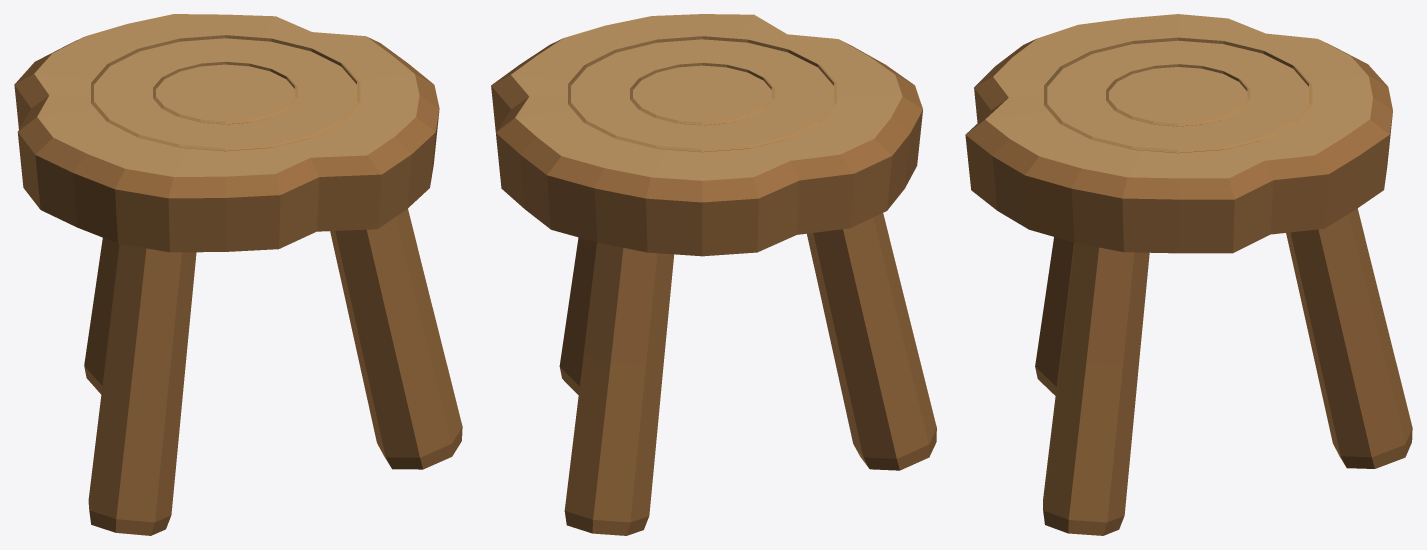
File: stool_crude_slab_01.glb
The picture shows the model from 3 angles, left to right: view 1: azimuth 30°, elevation 25°; view 2: azimuth 150°, elevation 25°; view 3: azimuth 270°, elevation 25°; orthographic projection.
Visible parts, largest first — view 1: stool_crude_slab_01__slab, stool_crude_slab_01, stool_crude_slab_01__growth_ring.001, stool_crude_slab_01__growth_ring; view 2: stool_crude_slab_01__slab, stool_crude_slab_01, stool_crude_slab_01__growth_ring.001, stool_crude_slab_01__growth_ring; view 3: stool_crude_slab_01__slab, stool_crude_slab_01, stool_crude_slab_01__growth_ring.001, stool_crude_slab_01__growth_ring.
Boxes of the visible parts, bbox=[...] form: stool_crude_slab_01__slab: bbox=[14, 14, 439, 252]; stool_crude_slab_01: bbox=[84, 209, 462, 535]; stool_crude_slab_01__growth_ring.001: bbox=[91, 35, 360, 151]; stool_crude_slab_01__growth_ring: bbox=[153, 61, 297, 124]; stool_crude_slab_01__slab: bbox=[491, 14, 922, 256]; stool_crude_slab_01: bbox=[559, 213, 936, 535]; stool_crude_slab_01__growth_ring.001: bbox=[568, 36, 836, 152]; stool_crude_slab_01__growth_ring: bbox=[630, 63, 774, 125]; stool_crude_slab_01__slab: bbox=[965, 14, 1392, 253]; stool_crude_slab_01: bbox=[1035, 208, 1412, 535]; stool_crude_slab_01__growth_ring.001: bbox=[1044, 37, 1312, 153]; stool_crude_slab_01__growth_ring: bbox=[1106, 64, 1250, 126].
Size of the model in its own units: 0.5123 by 0.4833 by 0.5339.
